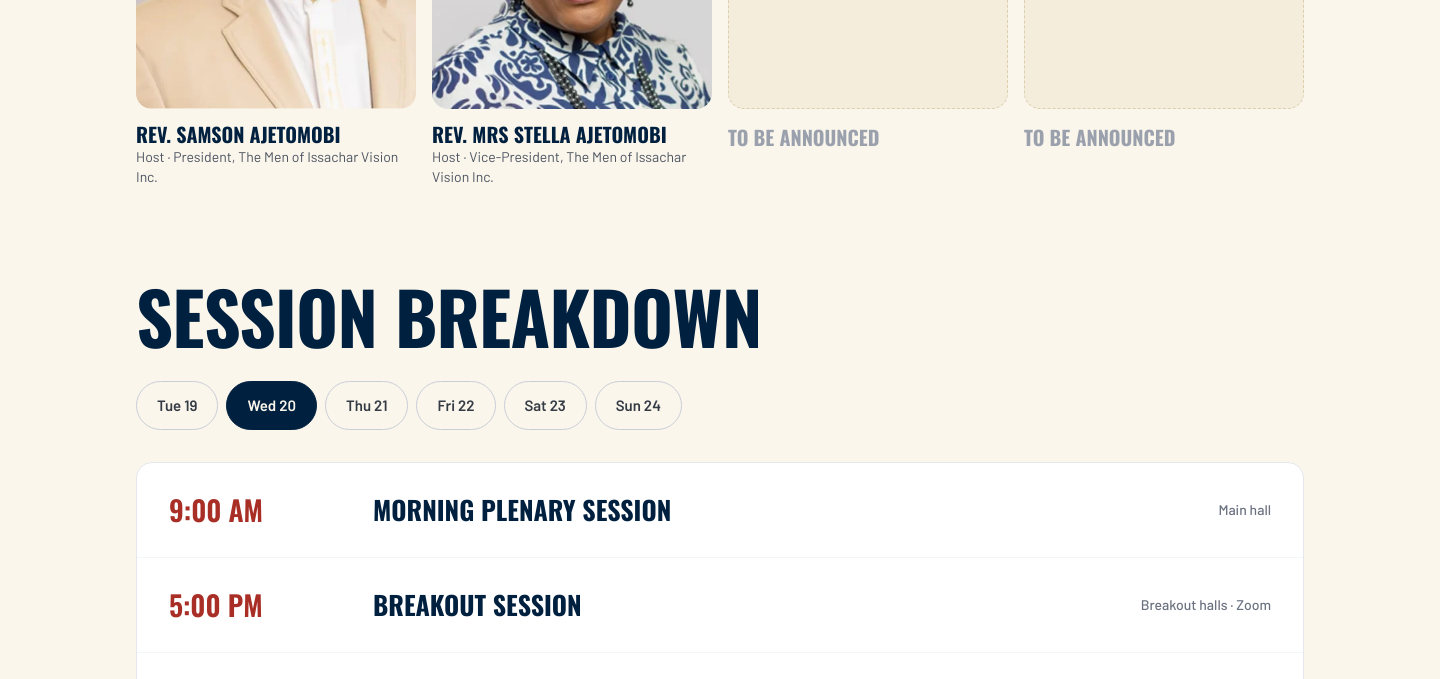
landing page › shows the session list for the selected day
(page scrolled)
Expected: the text "Morning Plenary Session" is shown, [373, 490, 671, 529]
Click the tab "Tue 19" at (177, 406), box [136, 381, 218, 430]
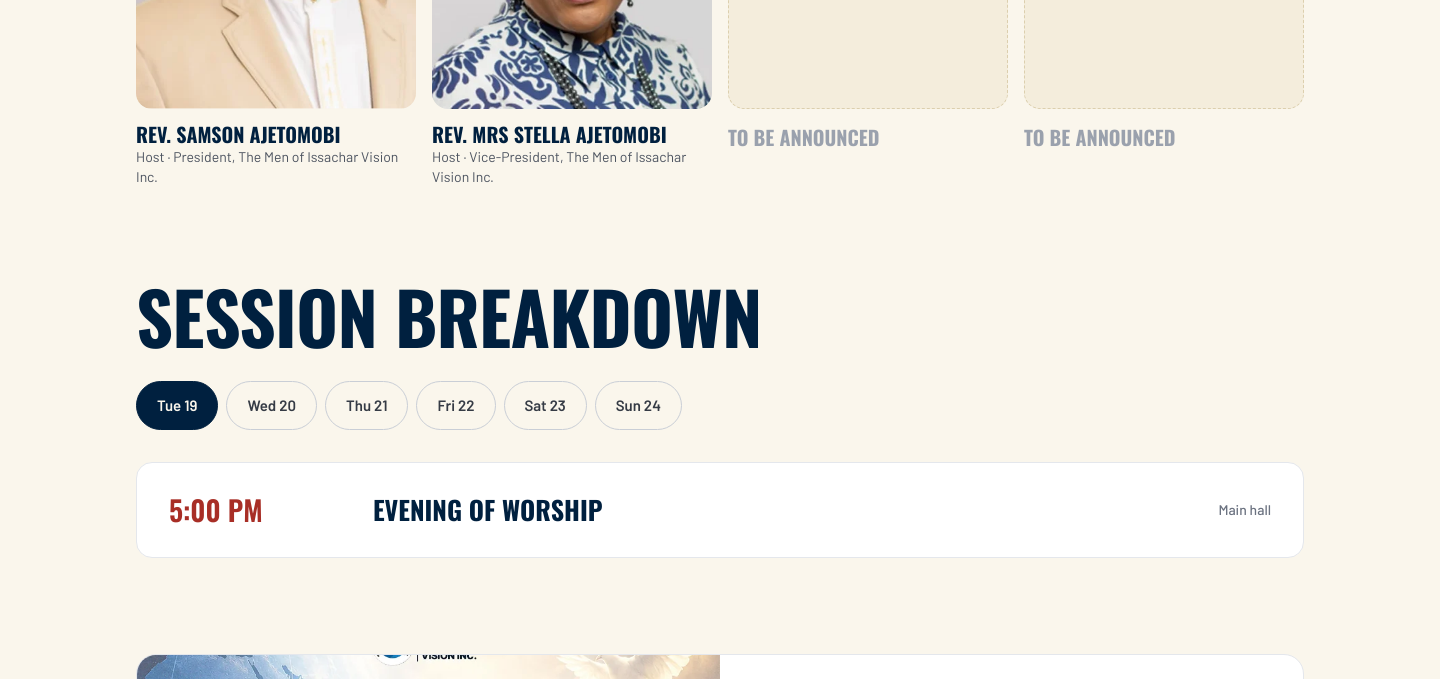
Expected: the text "Evening of Worship" is shown, [373, 490, 603, 529]
Expected: the text "Morning Plenary Session" is gone
